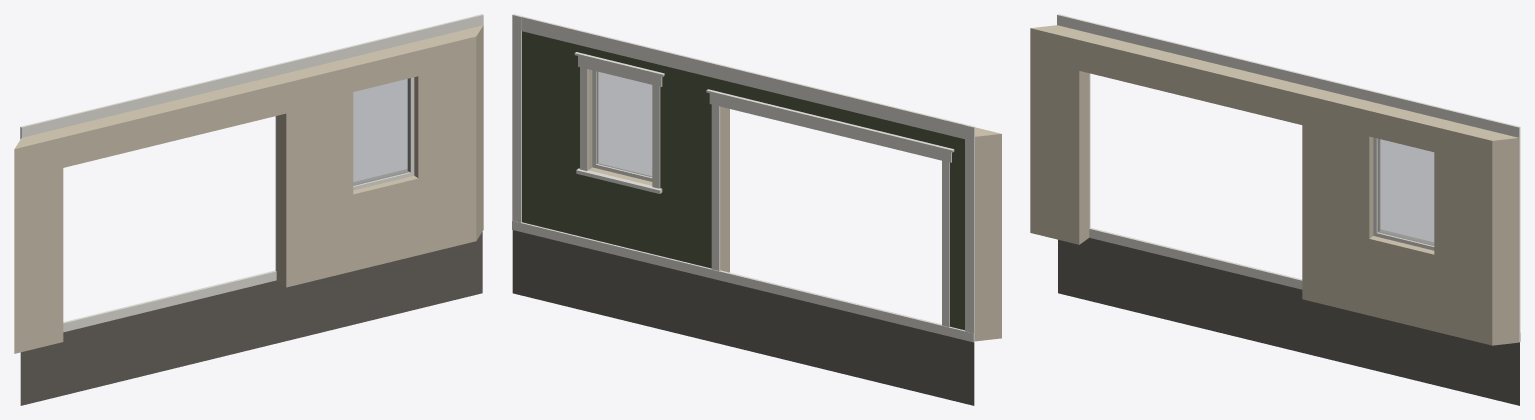
File: wall-04.glb
3 renders of one model, left to right at view 1: azimuth 30°, elevation 25°; view 2: azimuth 150°, elevation 25°; view 3: azimuth 330°, elevation 25°, orthographic.
Size of the model in its own units: 19.58 by 10.9 by 0.8929.
